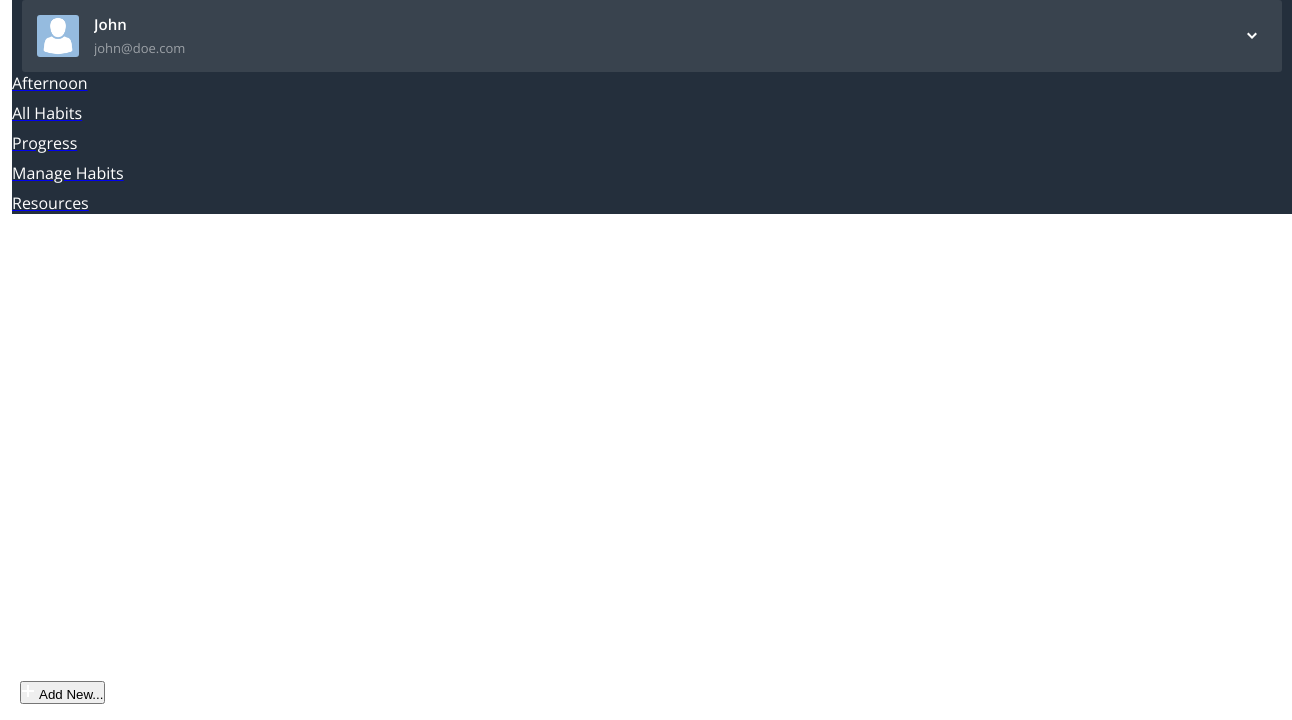
it: Should expand button list when button is clicked
The image size is (1292, 720).
Expected: the text "Add Area" is not shown
Click the button "Add New...": (63,692) [20,681,106,704]
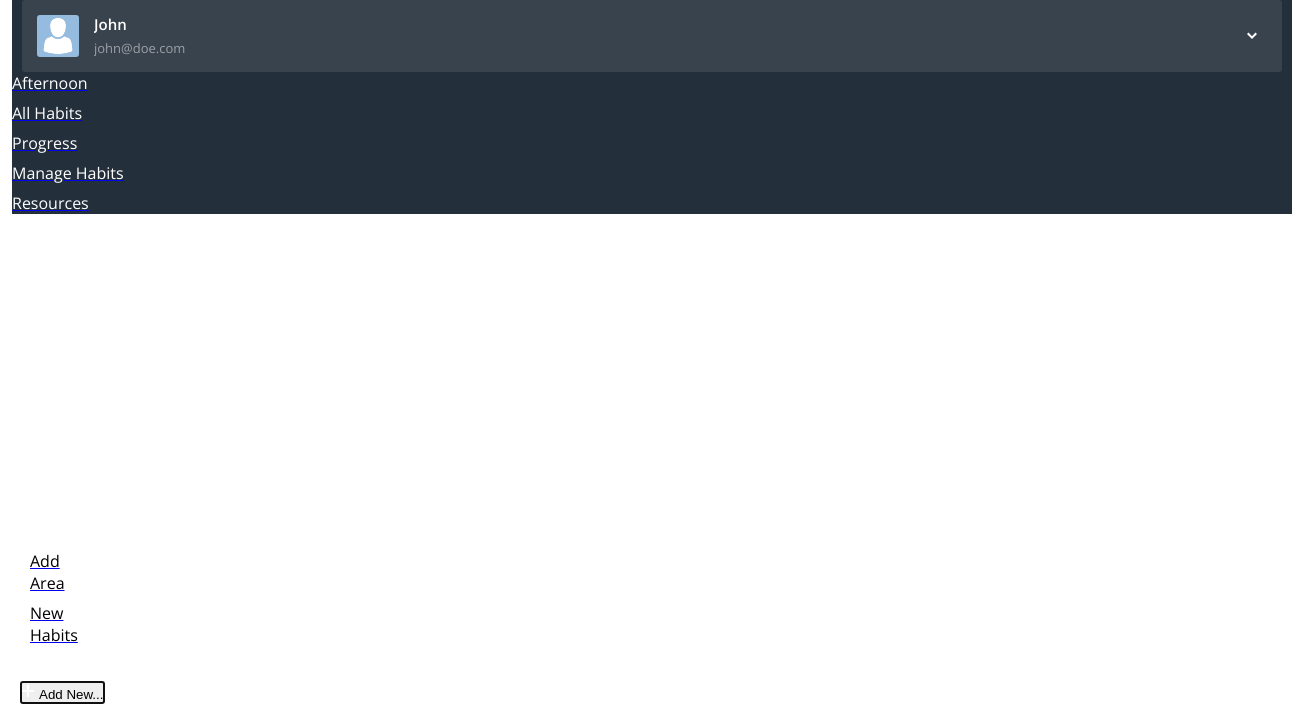
Expected: the text "Add Area" is shown, [30,550,64,594]
